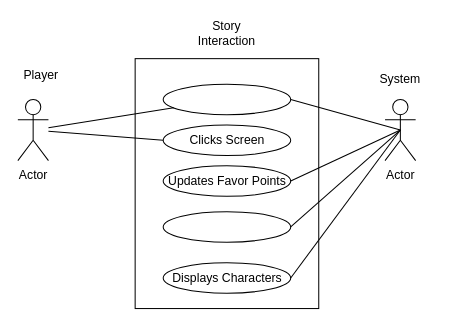
This 449x326 diagram has some shape labels left out. The box of each missing label's shape, as (x1, y1, x2, y2) in pixels:
Chooses Dialogue Option: (162, 83, 291, 115)
Displays Scenes: (162, 211, 291, 242)
